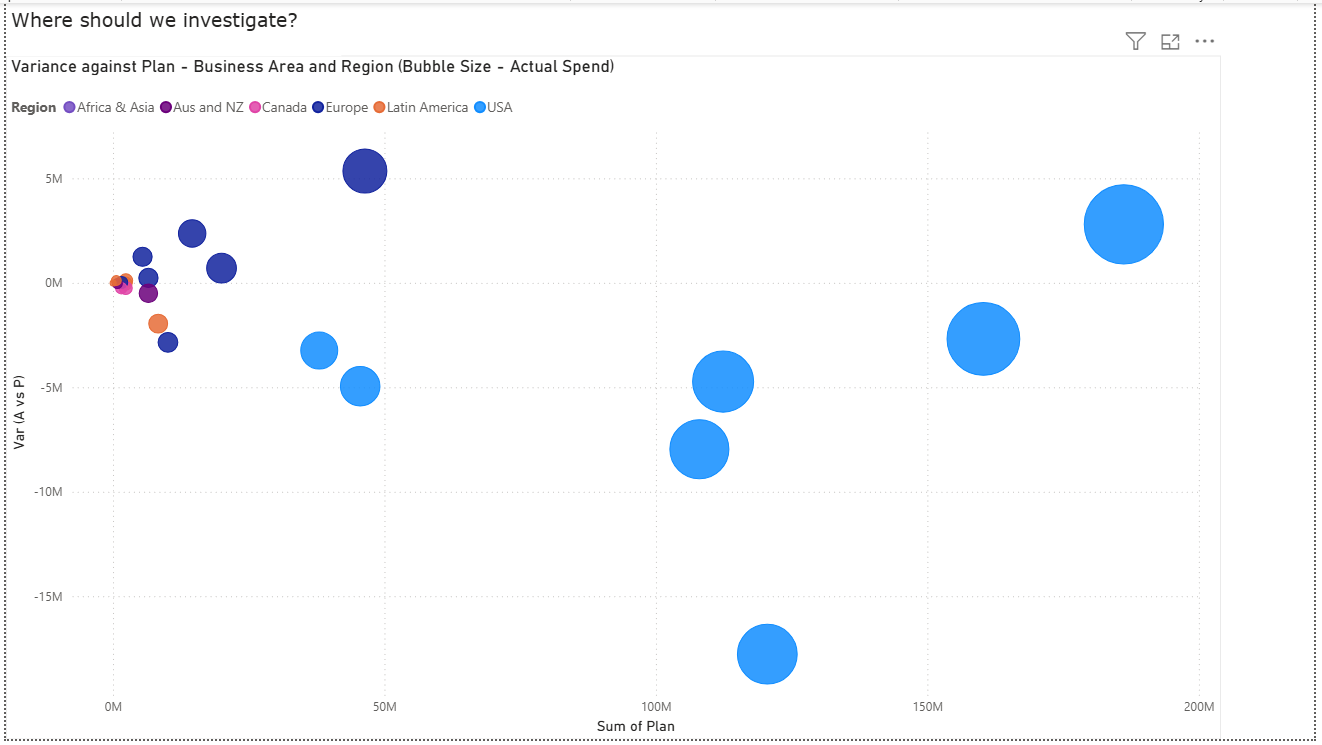

What the dashboard file says about the page in this screenshot:
{"tool":"powerbi","page":{"name":"Highlight Areas","canvas":[1280,720],"ordinal":2},"visuals":[{"type":"scatterChart","title":"Variance against Plan - Business Area and Region (Bubble Size - Actual Spend)","fields":{"Series":["Data.Region"],"Size":["Sum(Data.Actual)1"],"Category":["Data.Business Area"],"Y":["Data.Var (A vs P)"],"X":["Sum(Data.Plan)"]},"box":[0,51.6,1188.1,668.4],"z":0},{"type":"textbox","box":[0,0,328,51.6],"z":1}]}

Visuals, with their boxes in screenshot pixels (x1, y1, x2, y2), scaled from the page's 1280x720 canvas onto the 1322x745 screenshot:
"Variance against Plan - Business Area and Region (Bubble Size - Actual Spend)" scatterChart: 0,53,1227,744
textbox: 0,0,339,53
